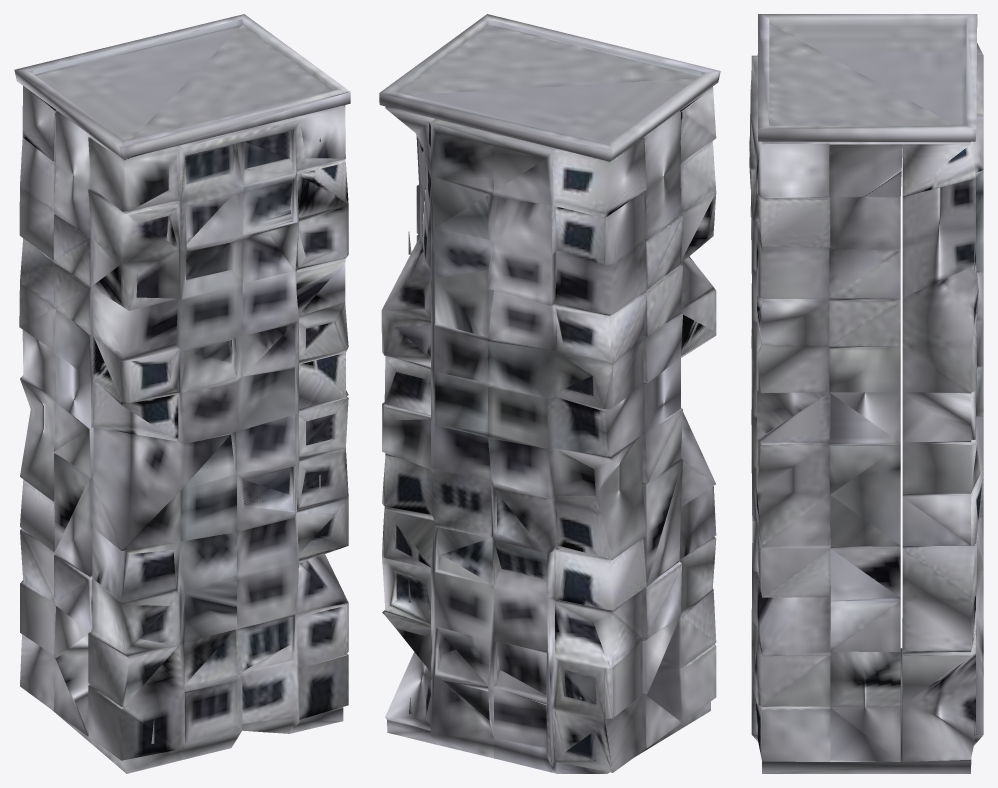
The model's file is 07-residential-tower.glb.
3 renders of one model, left to right at view 1: azimuth 30°, elevation 25°; view 2: azimuth 150°, elevation 25°; view 3: azimuth 270°, elevation 25°, orthographic. The views are drawn at different scales.
Parts seen in each view (by area): view 1: geometry_0; view 2: geometry_0; view 3: geometry_0.
Boxes of the visible parts, x1,y1,x2,y2 form: geometry_0: (14, 14, 350, 773); geometry_0: (379, 14, 720, 773); geometry_0: (749, 14, 983, 773).
Bounding box in the file's own units: 0.3627 × 0.9502 × 0.3121.
Materials: 1 (1 with a texture image).
